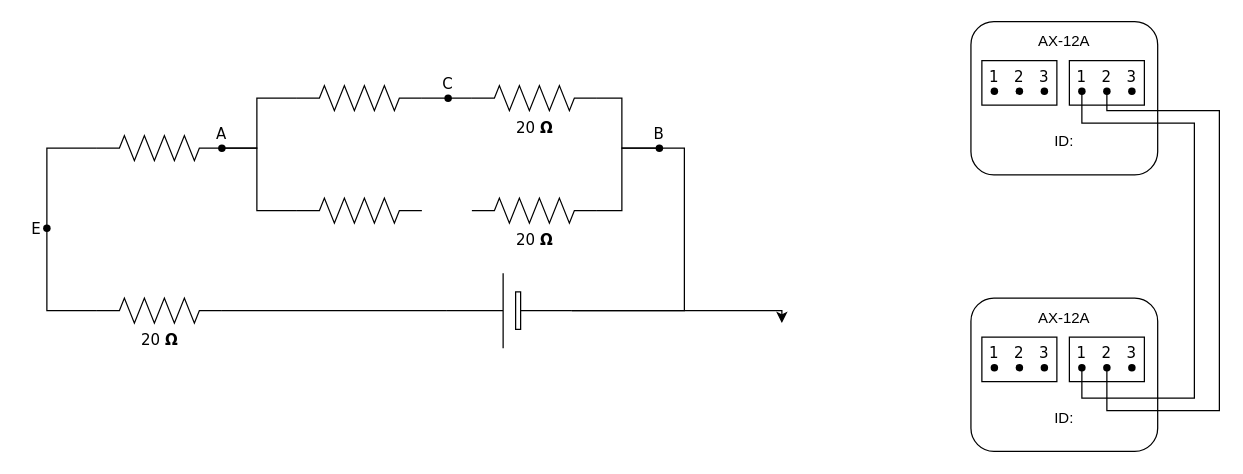
The diagram is 1243 pixels wide and 474 high, and some of its shapes have lost their labels. Here are the shapes that lost their labels. From the top down, the box of each, then its label:
(296, 84, 422, 111): 40 Ω
(96, 134, 222, 161): 50 Ω
(296, 197, 422, 223): 70 Ω
(446, 272, 572, 348): 220 V
